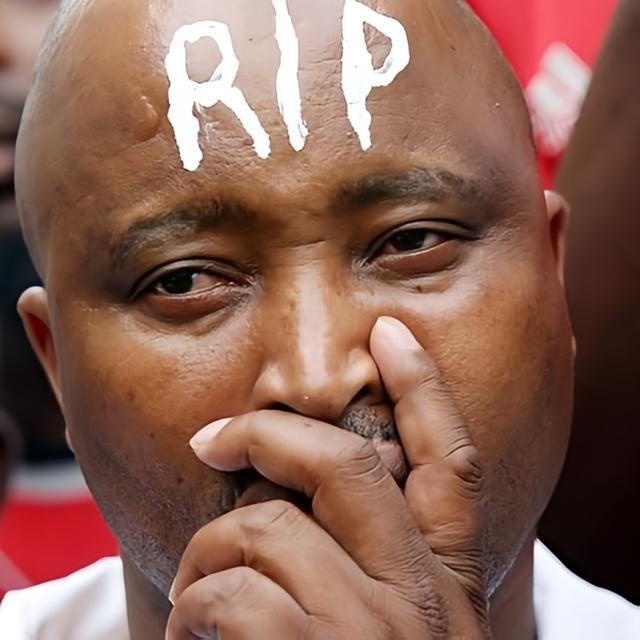sad: (60, 35, 563, 591)
